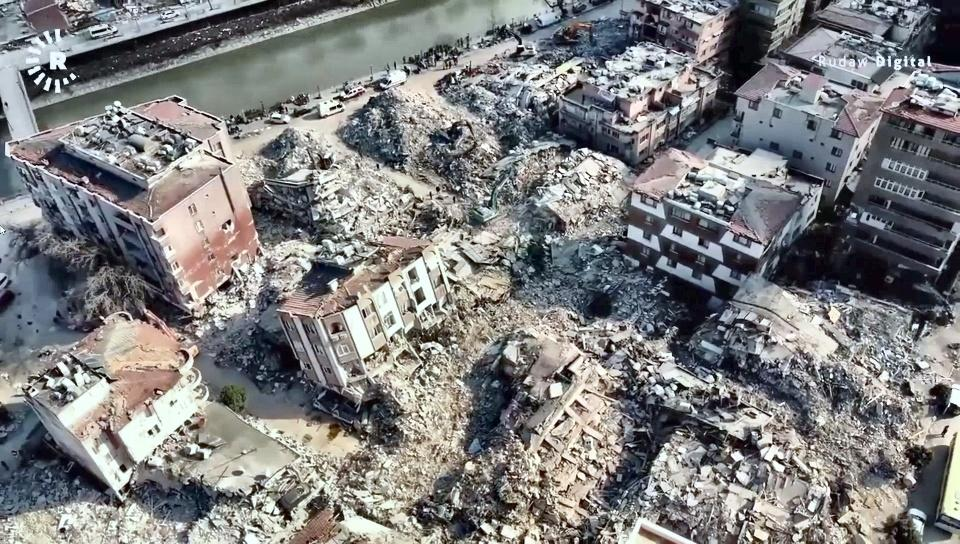kapali: (275, 390, 589, 543)
